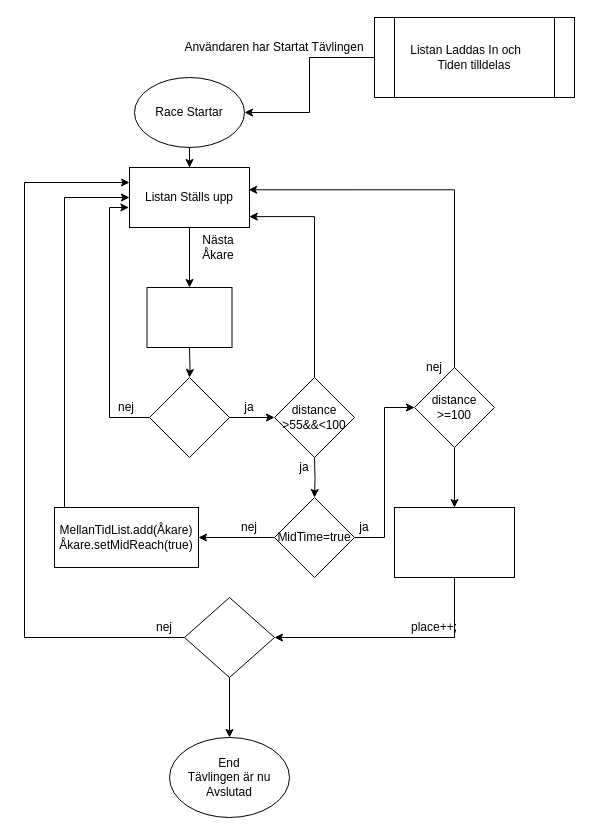
Image size: 592x835. Some labels were removed from this diagram. The centre of each missing label's shape, as x and y in pixels:
"distance>=50" belongs at (x=189, y=417).
"resultList. getSize =<99" belongs at (x=229, y=637).
"ResultList.Add(Åkare) Åkare.setFinshed(true) Åkare.setPlace" belongs at (x=454, y=542).
"Åkares Distans +=random(5)" belongs at (x=189, y=317).
